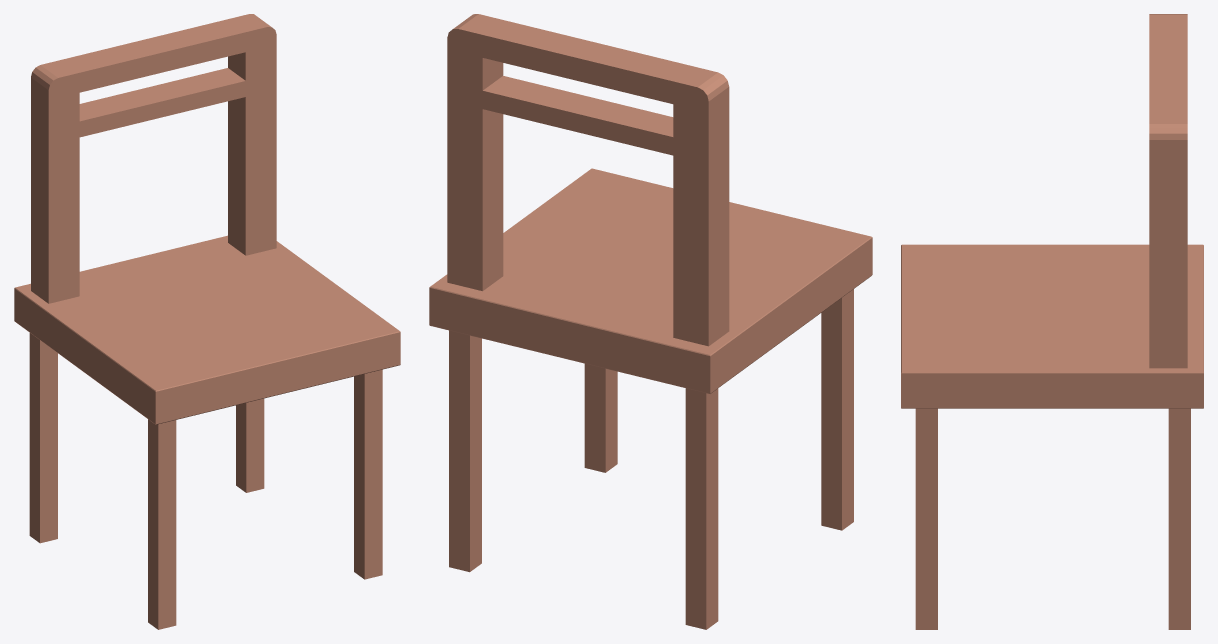
The model's file is tuoli.fbx.
3 views of the same model, side by side, from view 1: azimuth 30°, elevation 25°; view 2: azimuth 150°, elevation 25°; view 3: azimuth 270°, elevation 25° (orthographic). The views are drawn at different scales.
Visible parts, largest first — view 1: Pöytä; view 2: Pöytä; view 3: Pöytä.
Part boxes in pixels (x1=…): Pöytä: x1=14, y1=14, x2=400, y2=629; Pöytä: x1=429, y1=14, x2=872, y2=629; Pöytä: x1=901, y1=14, x2=1203, y2=629.
Bounding box in the file's own units: 43.71 × 80.06 × 43.71.
